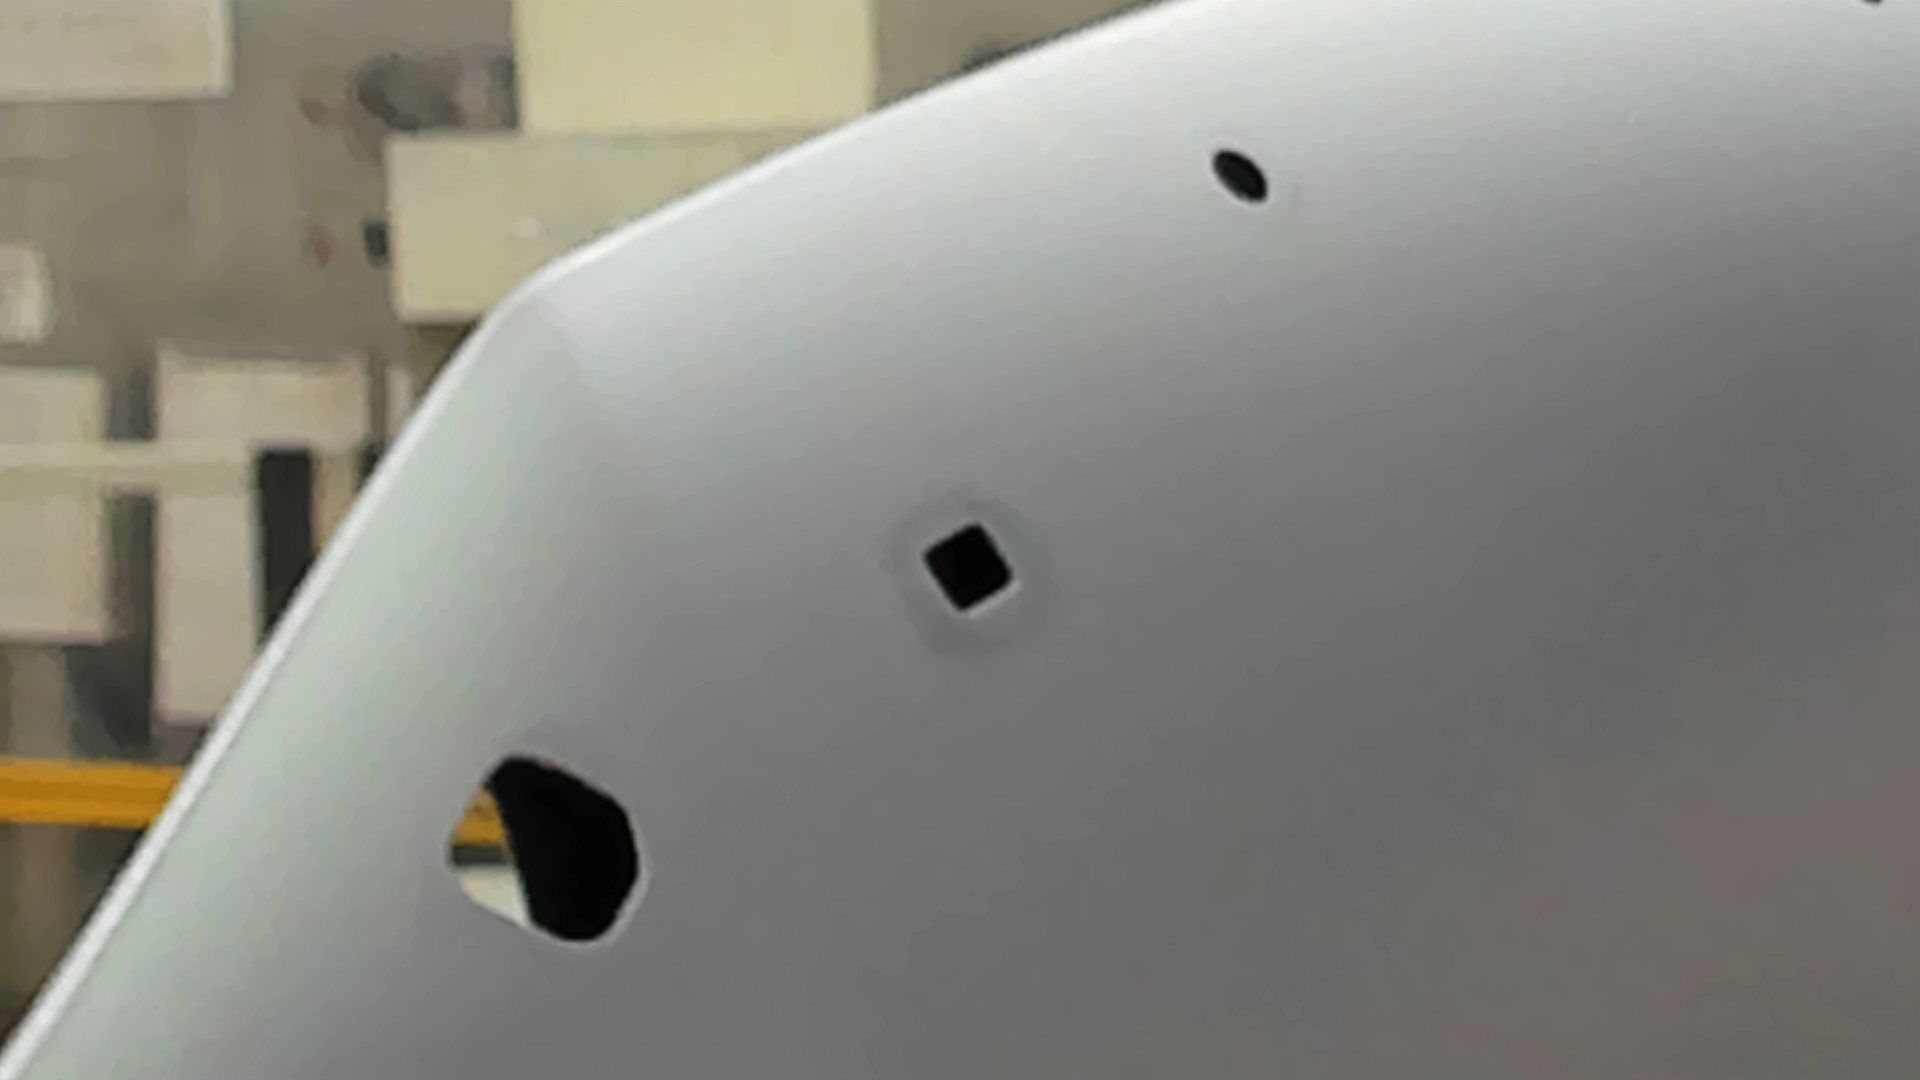chico: (1204, 140, 1275, 214)
grande: (438, 749, 650, 953)
mediano: (915, 518, 1021, 622)
